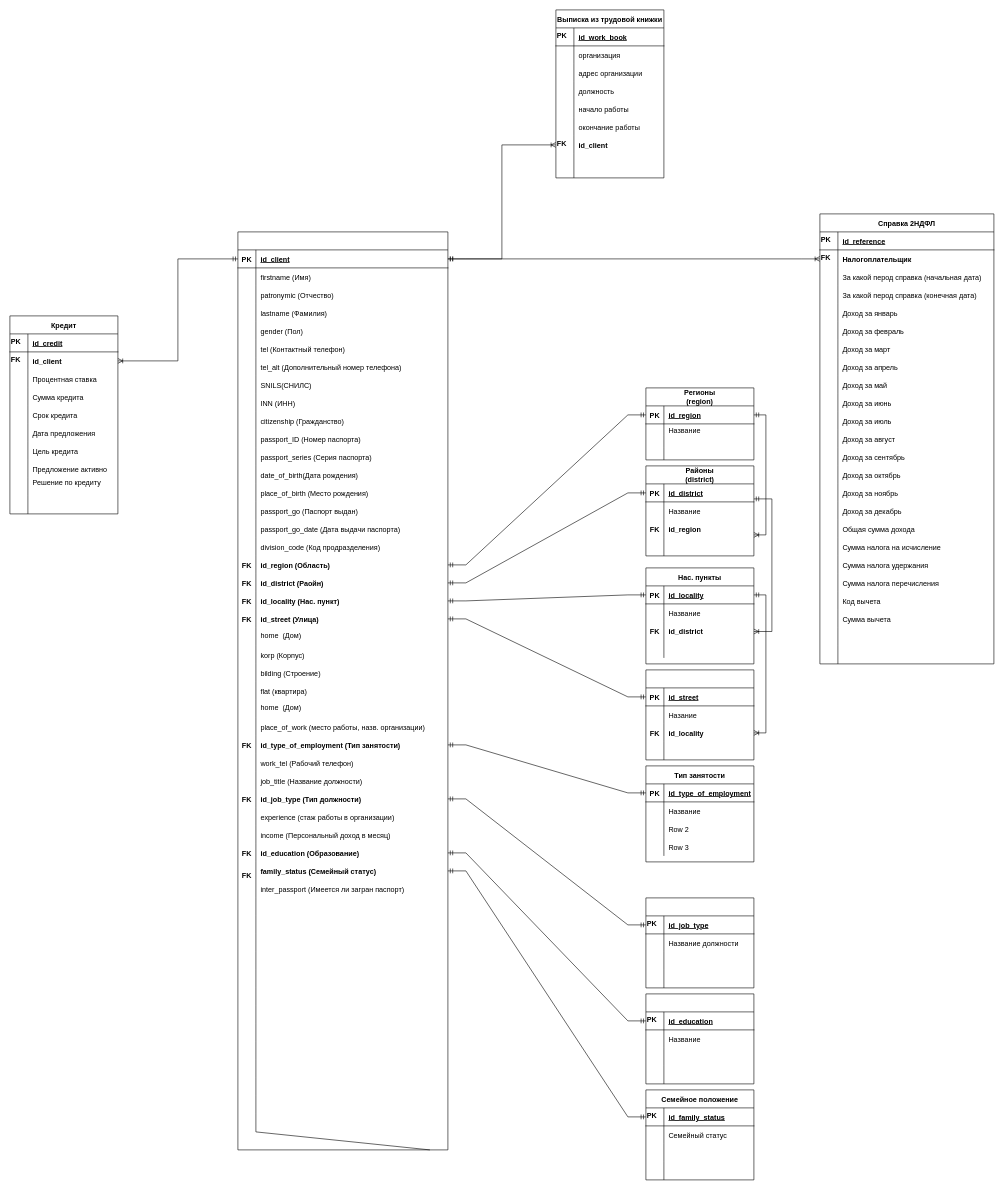
The diagram is 1004 pixels wide and 1190 high, and some of its shapes have lost their labels. Each missing label, with the box of its shape:
Table: (237, 231, 448, 1150)
Образование: (645, 993, 754, 1084)
Тип должности: (645, 897, 754, 988)
Улицы: (645, 669, 754, 760)
